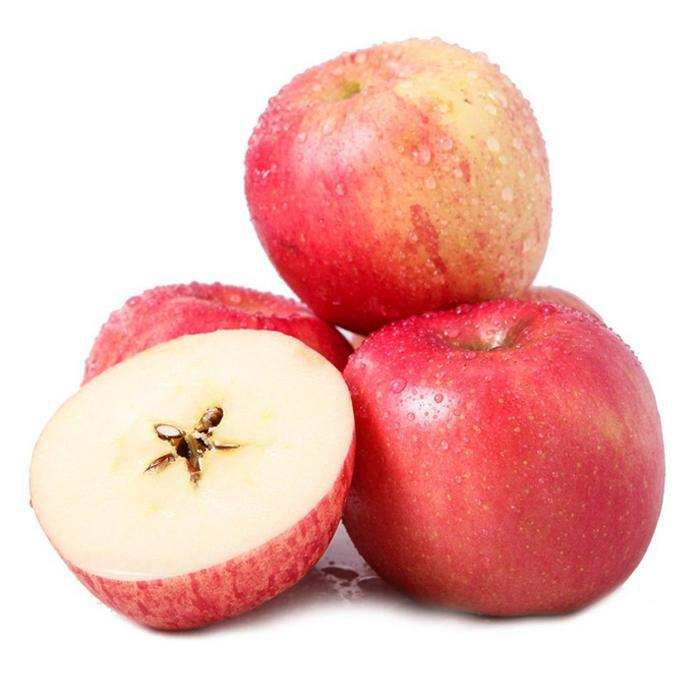apple: (341, 299, 666, 620), (247, 46, 559, 340)
